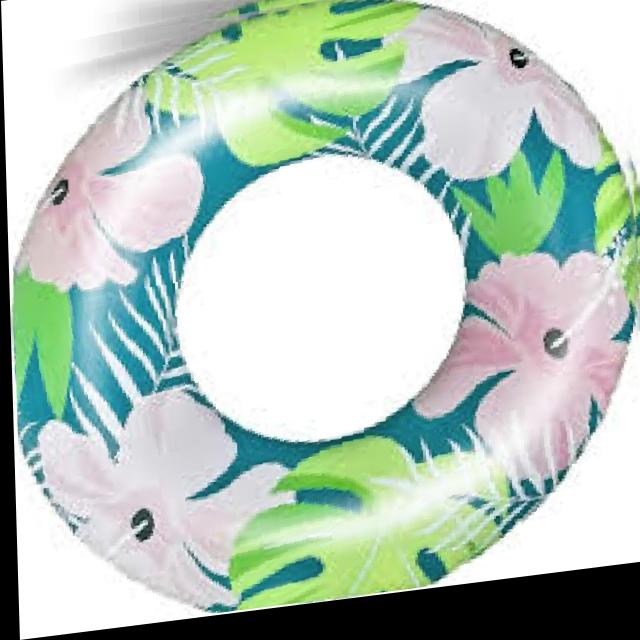lifesaver: (10, 4, 635, 614)
